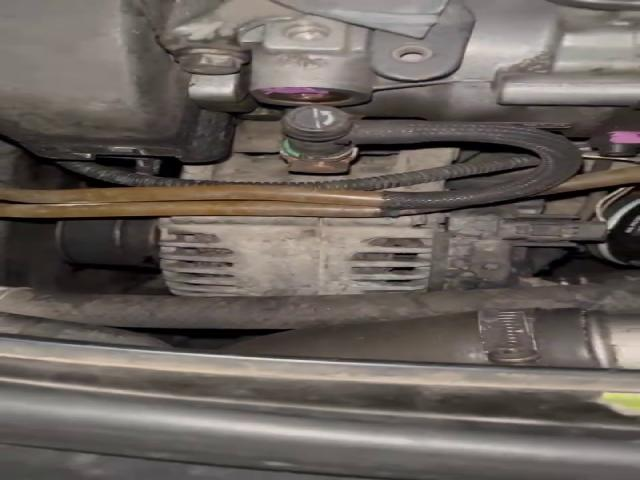alternator: (159, 214, 446, 296)
high_pressure_pump: (168, 0, 640, 151)
